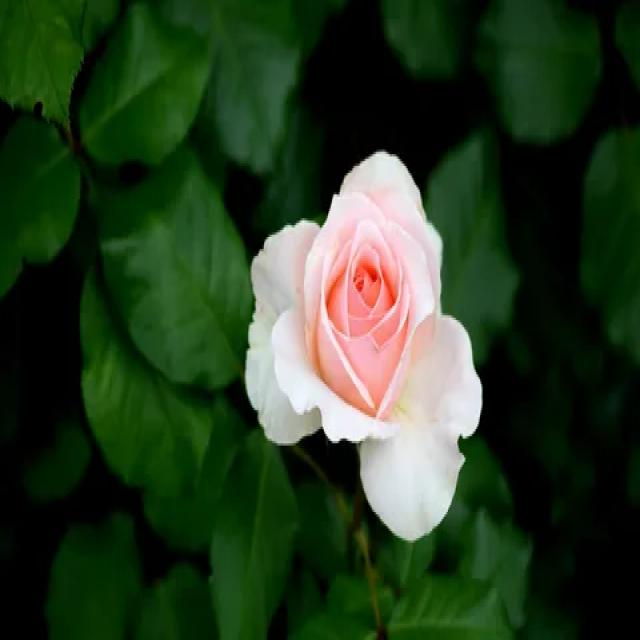rose: (236, 140, 500, 550)
